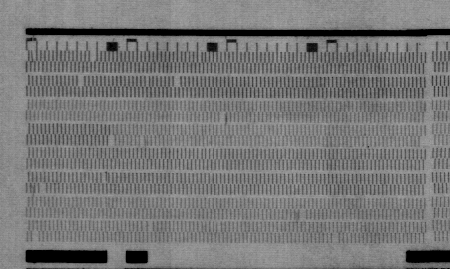Broken hole: (140, 220, 156, 233), (87, 51, 100, 65), (37, 182, 50, 195), (30, 230, 44, 242), (74, 75, 87, 87), (216, 111, 229, 123), (171, 75, 183, 87), (105, 136, 117, 148), (298, 210, 309, 223), (417, 136, 430, 147)
Oblique printing: (137, 134, 149, 149), (100, 169, 110, 185)
